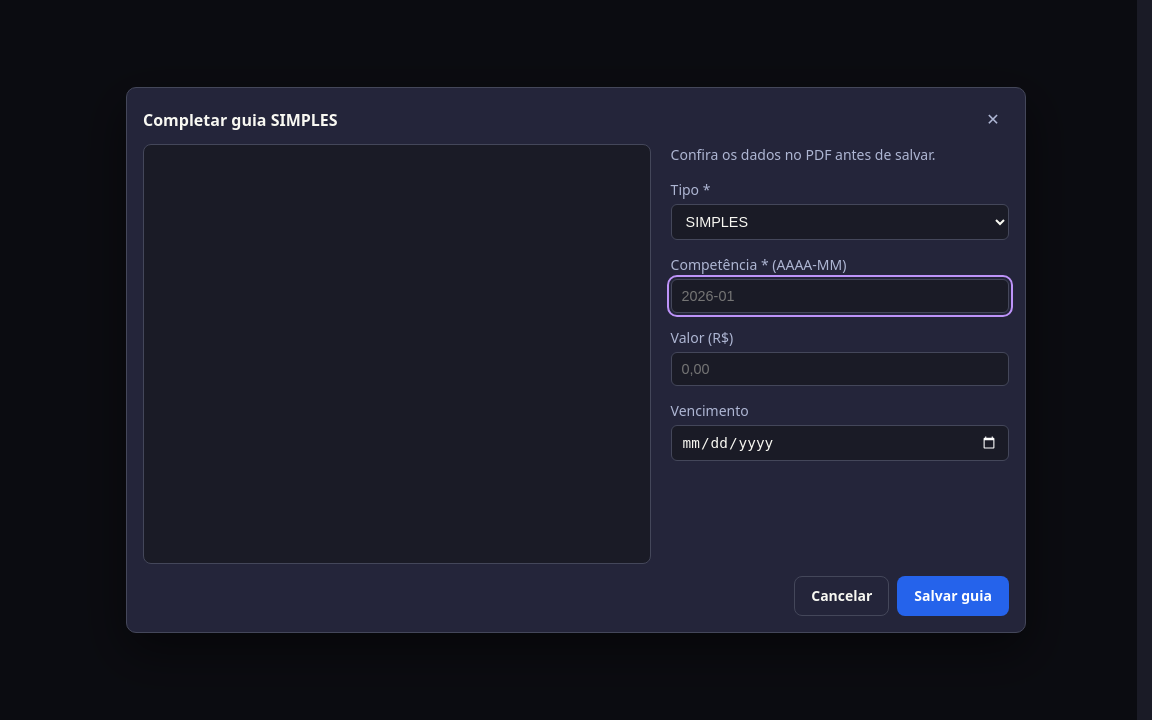
Scenario: captura identifica campos, mantém payload e anuncia falha sem fechar
The width and height of the screenshot is (1152, 720).
Type "2026-09" into the field labelled "Competência * (AAAA-MM)". click: (840, 296)
box: [671,279,1009,313]
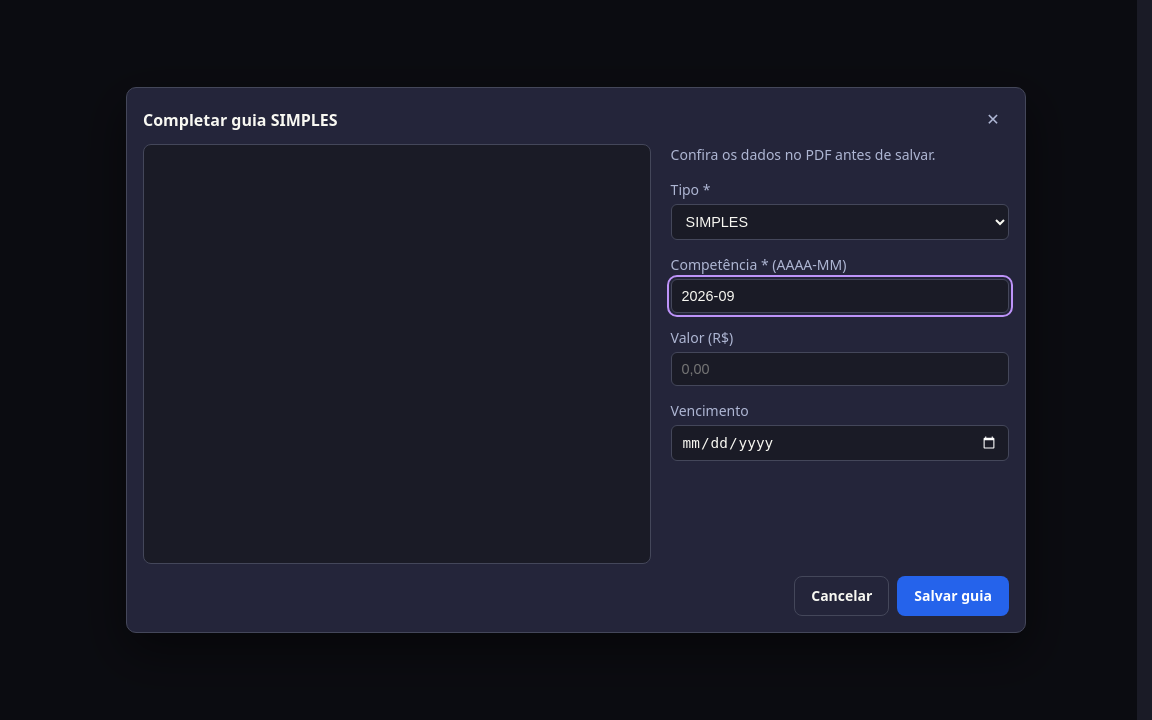
Type "1200" into the number field labelled "Valor (R$)". click: (840, 369)
box: [671,352,1009,386]
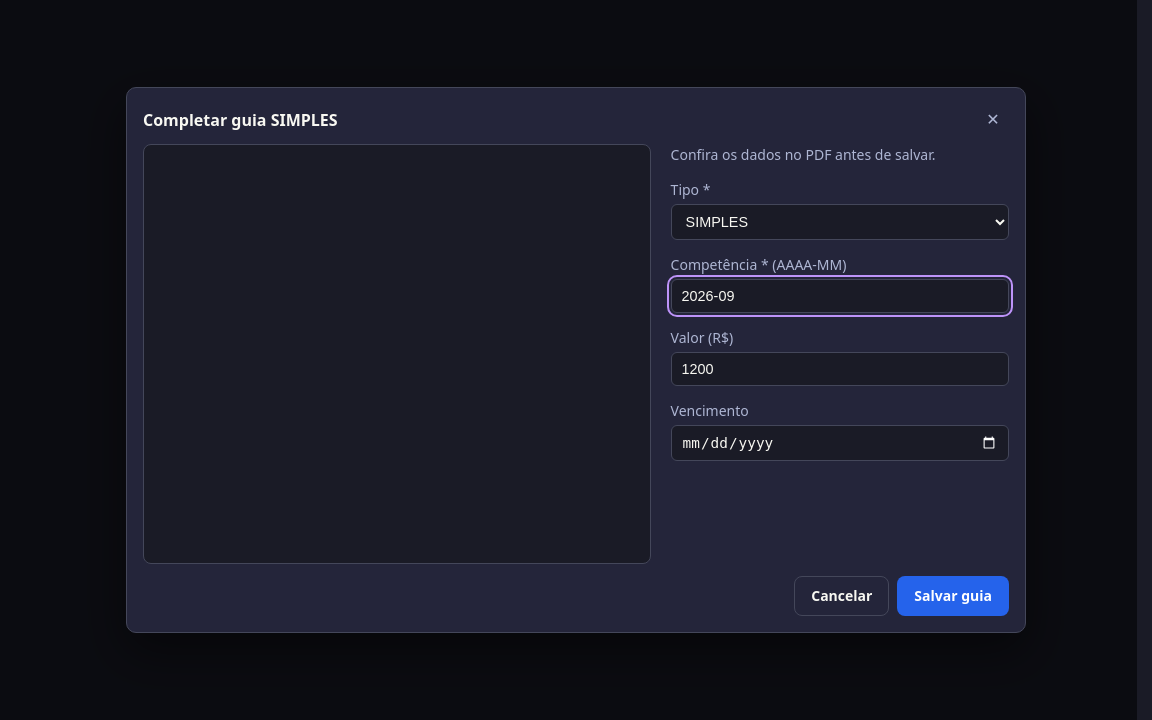
Type "2026-10-20" into the date field labelled "Vencimento". click: (840, 443)
box: [671,425,1009,461]
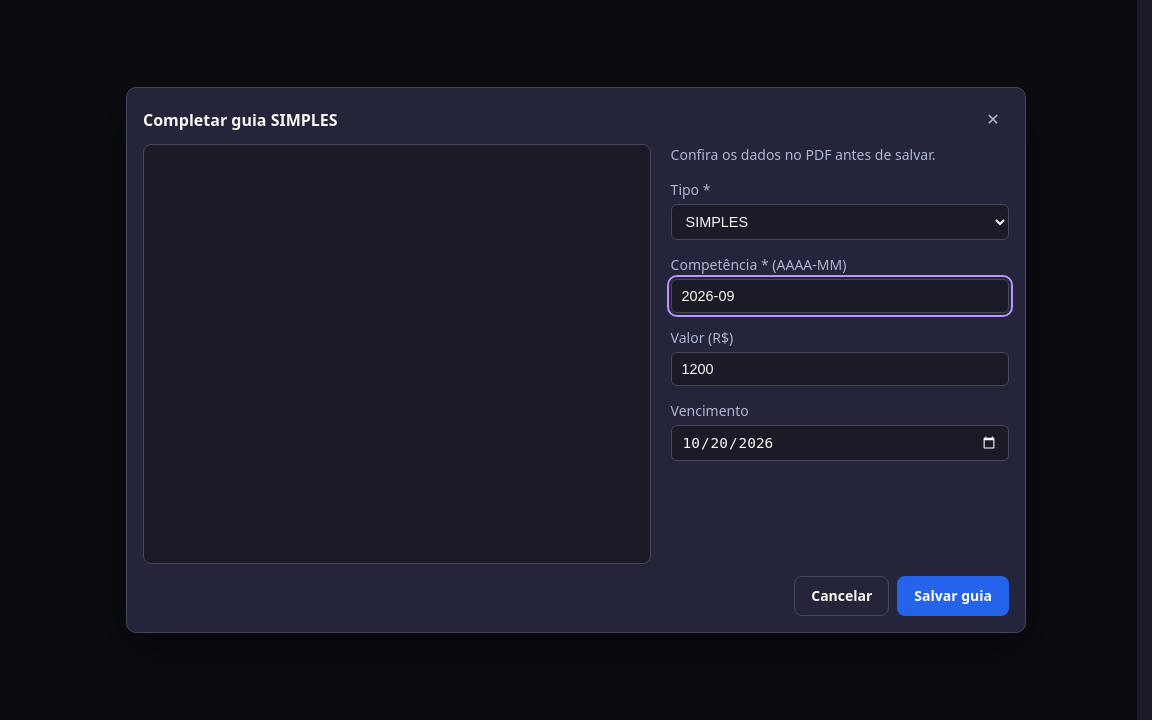
Click the button "Salvar guia". click: (953, 596)
box: [897,576,1009,616]
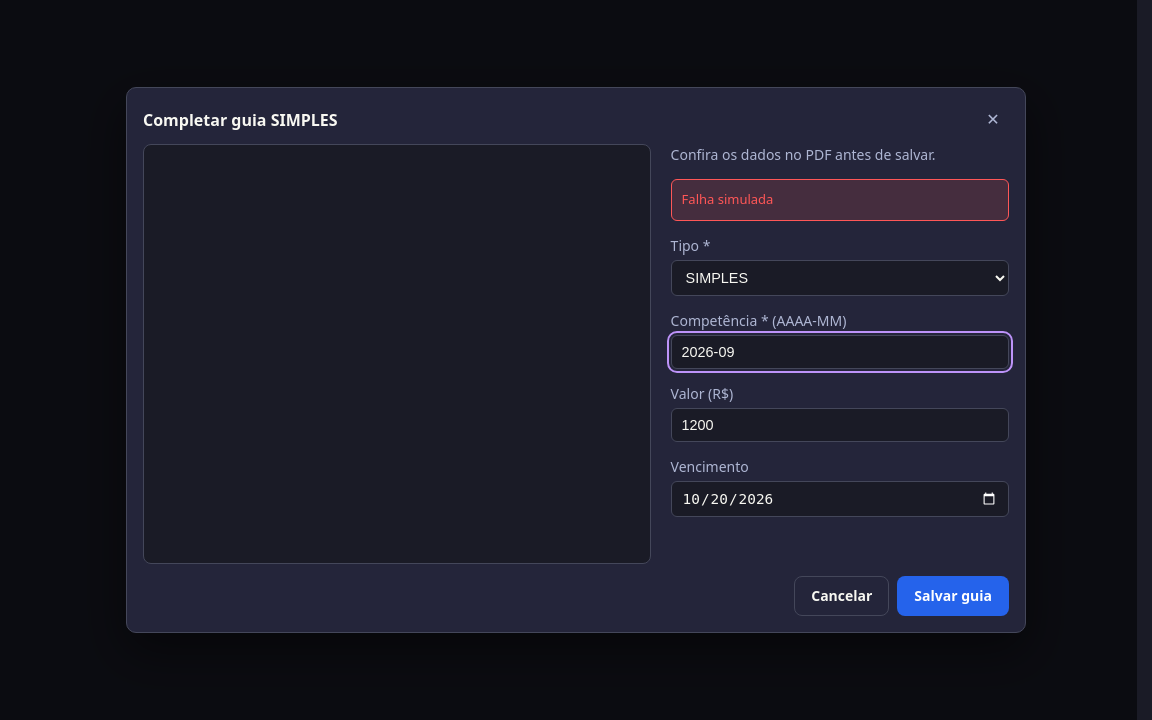
Result: the message reads "Falha simulada" at [682,190,773,208]
